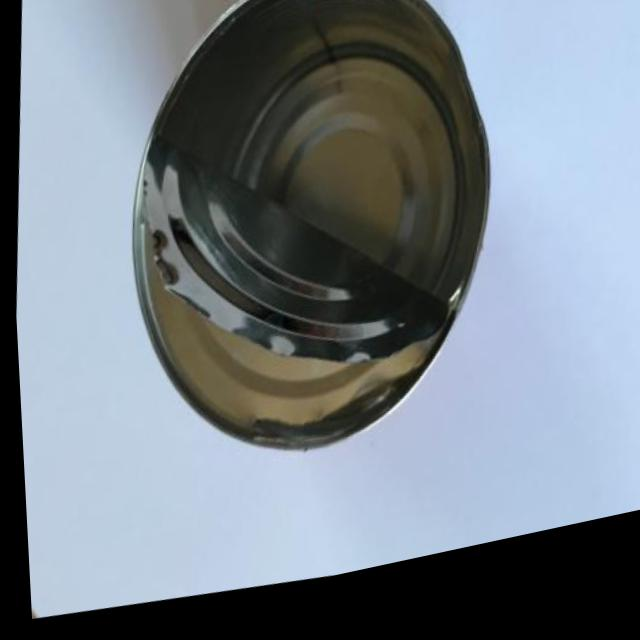metal: (86, 0, 532, 528)
